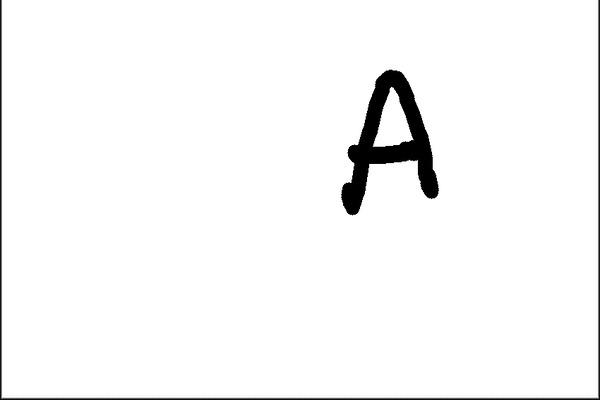A: (333, 61, 444, 220)
